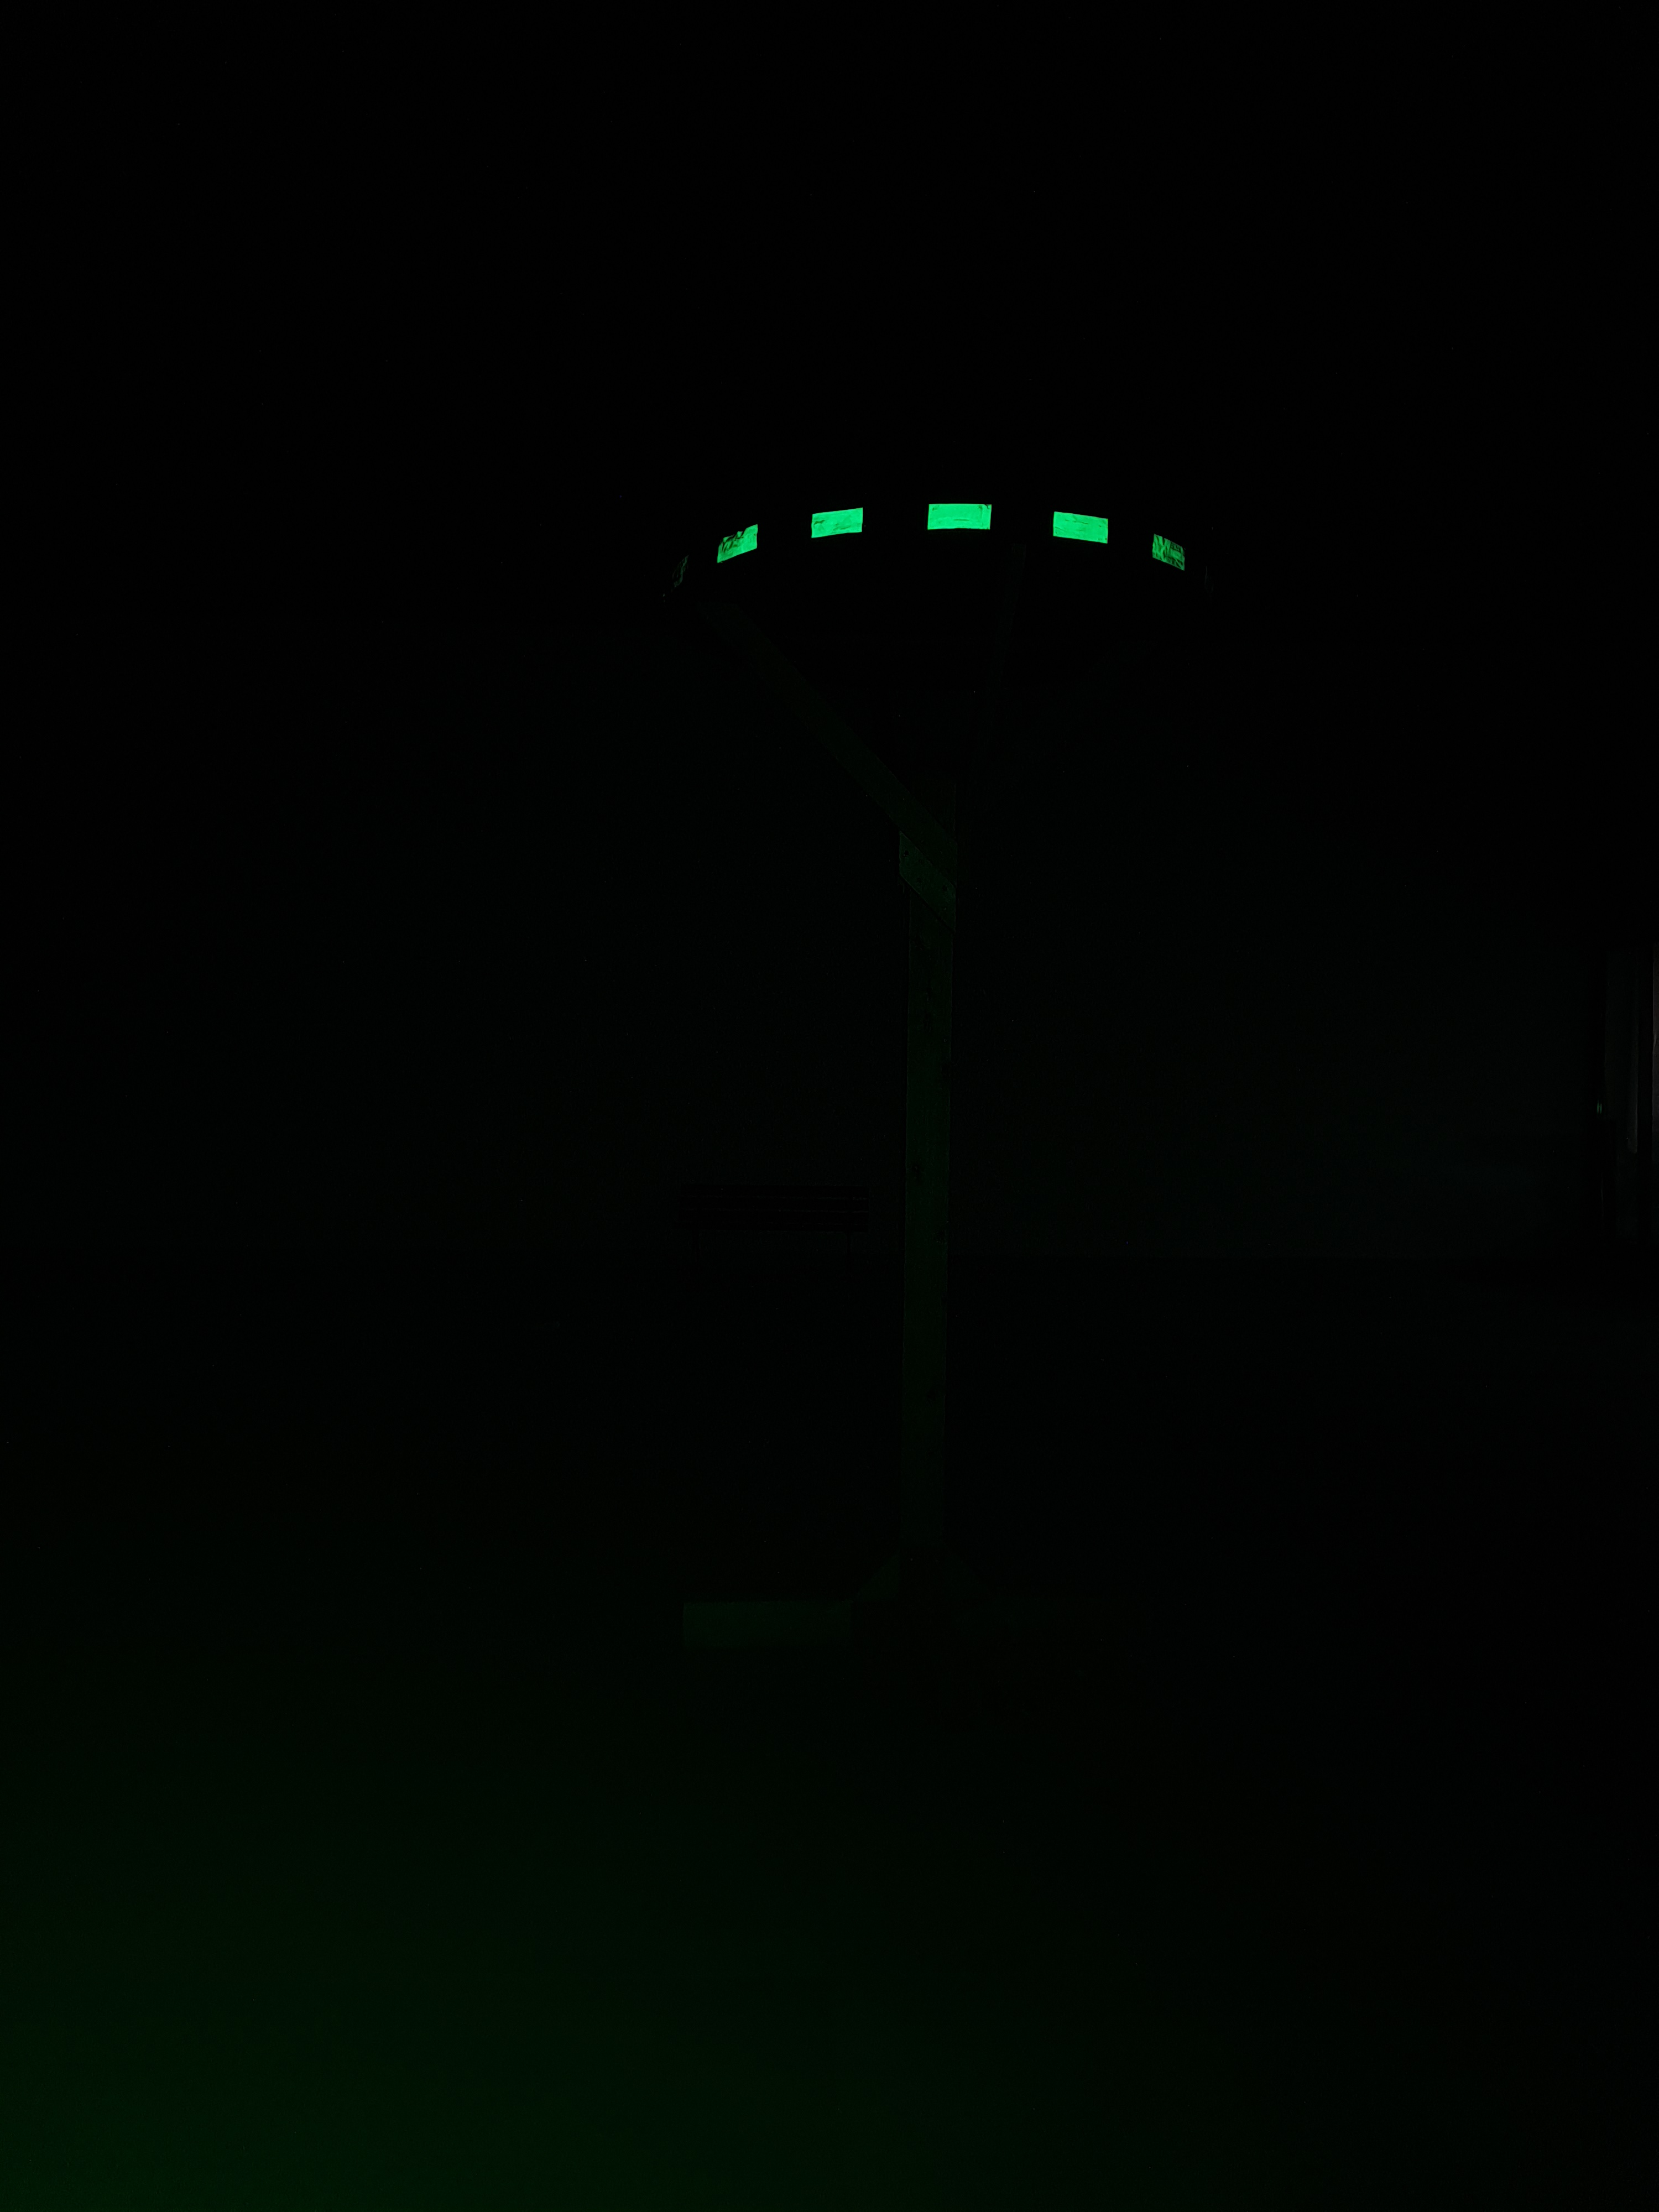hoop: (714, 502, 1185, 573)
